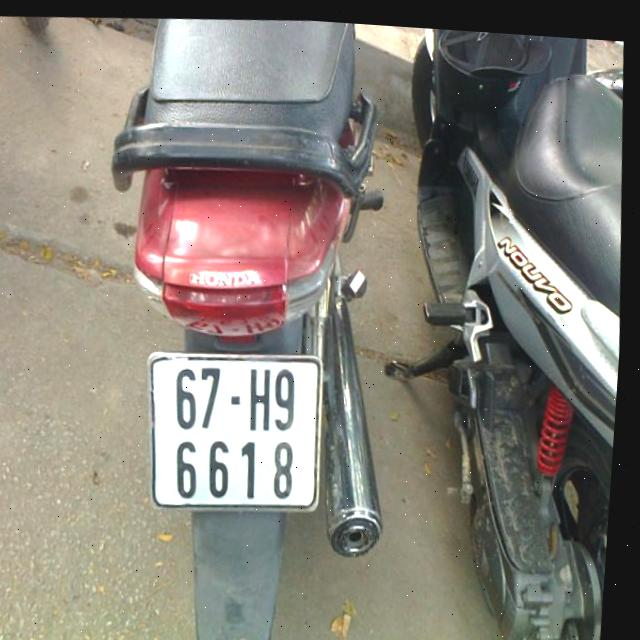motorcycle: (72, 8, 425, 640), (357, 27, 640, 640)
plate: (131, 336, 340, 532)
